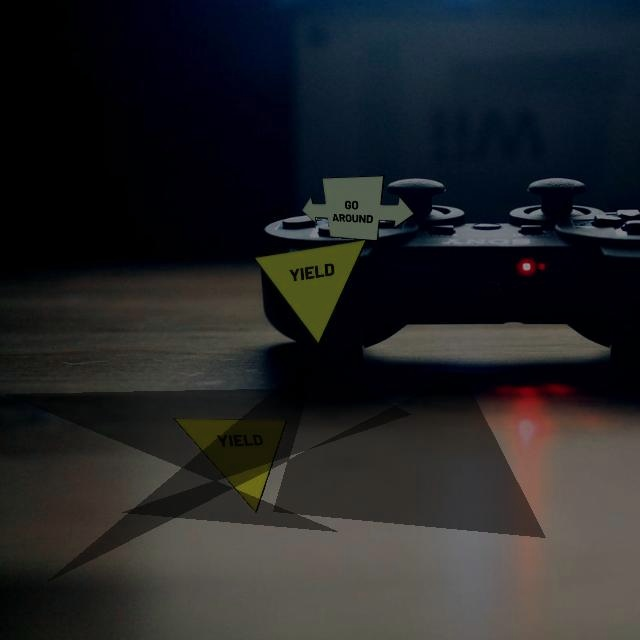GO_AROUND: (301, 175, 415, 241)
YIELD: (253, 239, 367, 345), (173, 418, 287, 513)
